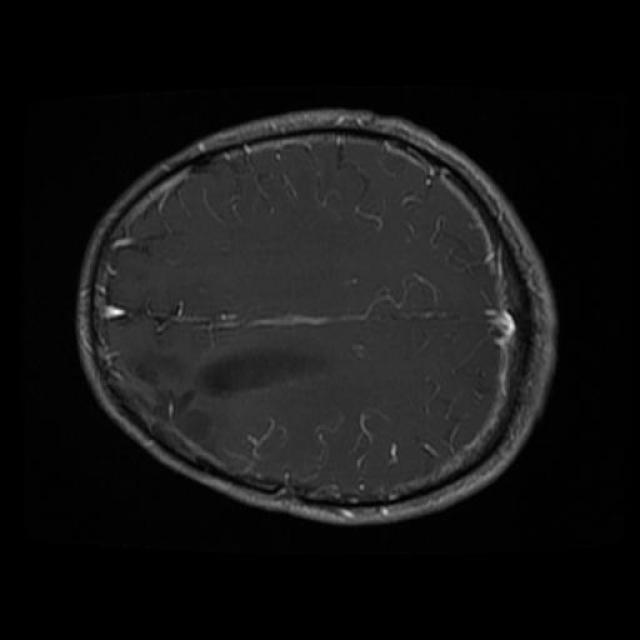Glioma: (160, 348, 355, 396)
